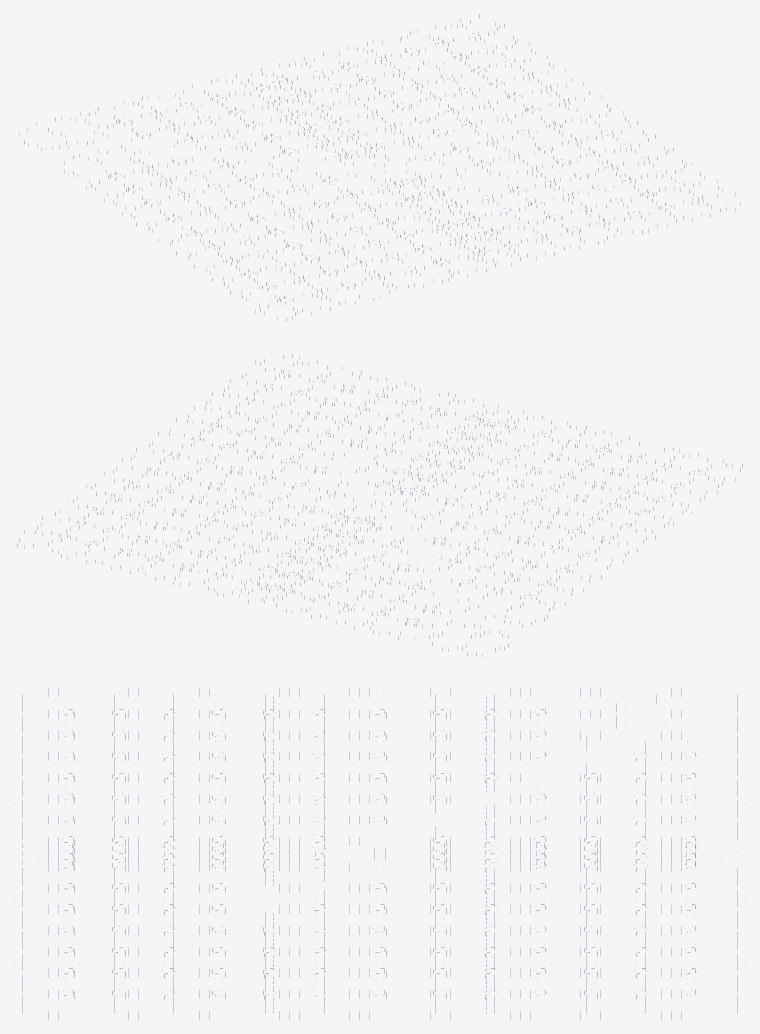
File: postes.fbx
The picture shows the model from 3 angles, top to bottom: view 1: azimuth 30°, elevation 25°; view 2: azimuth 150°, elevation 25°; view 3: azimuth 270°, elevation 25°; orthographic projection. The views are drawn at different scales.
Size of the model in its own units: 7688 by 57.79 by 7288.
Materials: 1 (1 with a texture image).
